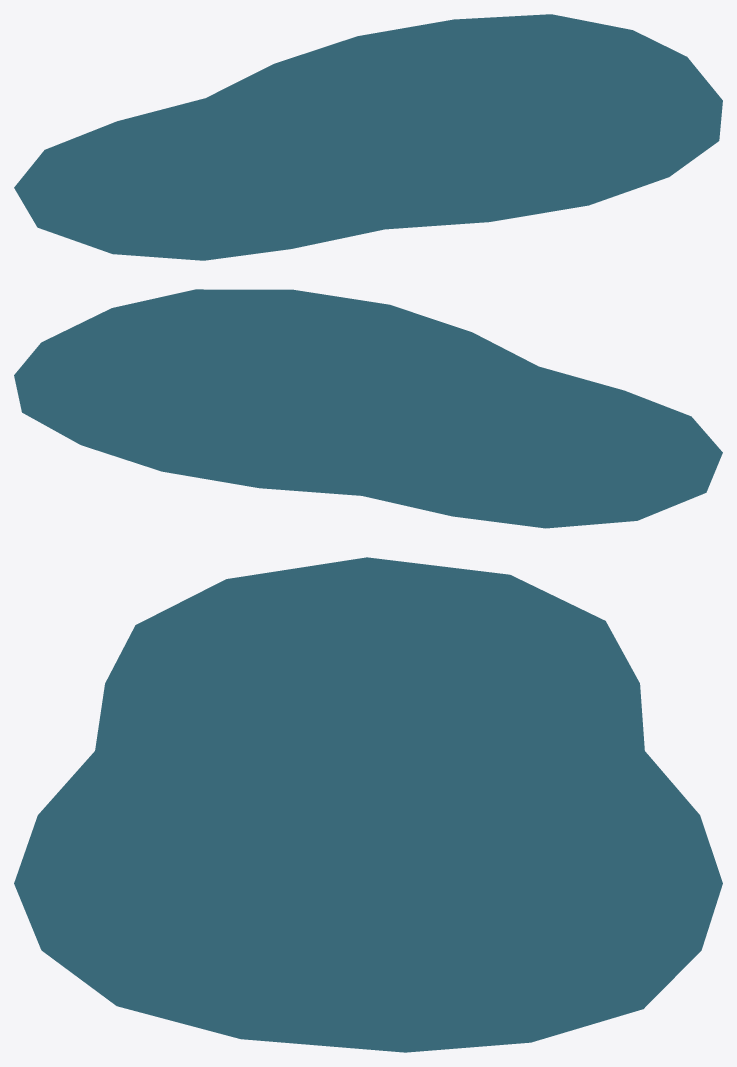
The model's file is itch_assetquest_pond_pond_4.glb.
3 renders of one model, top to bottom at view 1: azimuth 30°, elevation 25°; view 2: azimuth 150°, elevation 25°; view 3: azimuth 270°, elevation 25°, orthographic. The views are drawn at different scales.
Parts seen in each view (by area): view 1: Pond_4; view 2: Pond_4; view 3: Pond_4.
Boxes of the visible parts, x1,y1,x2,y2 form: Pond_4: (14, 14, 722, 260); Pond_4: (14, 289, 722, 528); Pond_4: (14, 557, 722, 1052).
Size of the model in its own units: 1.52 by 1.27e-12 by 0.9195.
